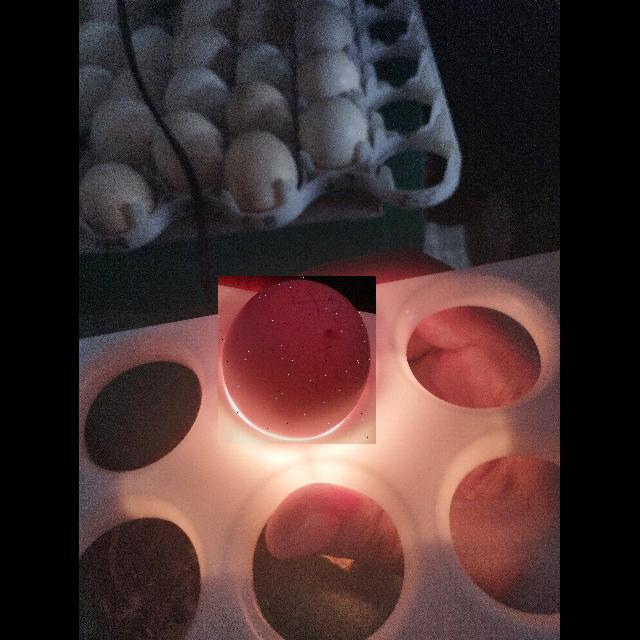Fertile: (218, 276, 376, 444)
